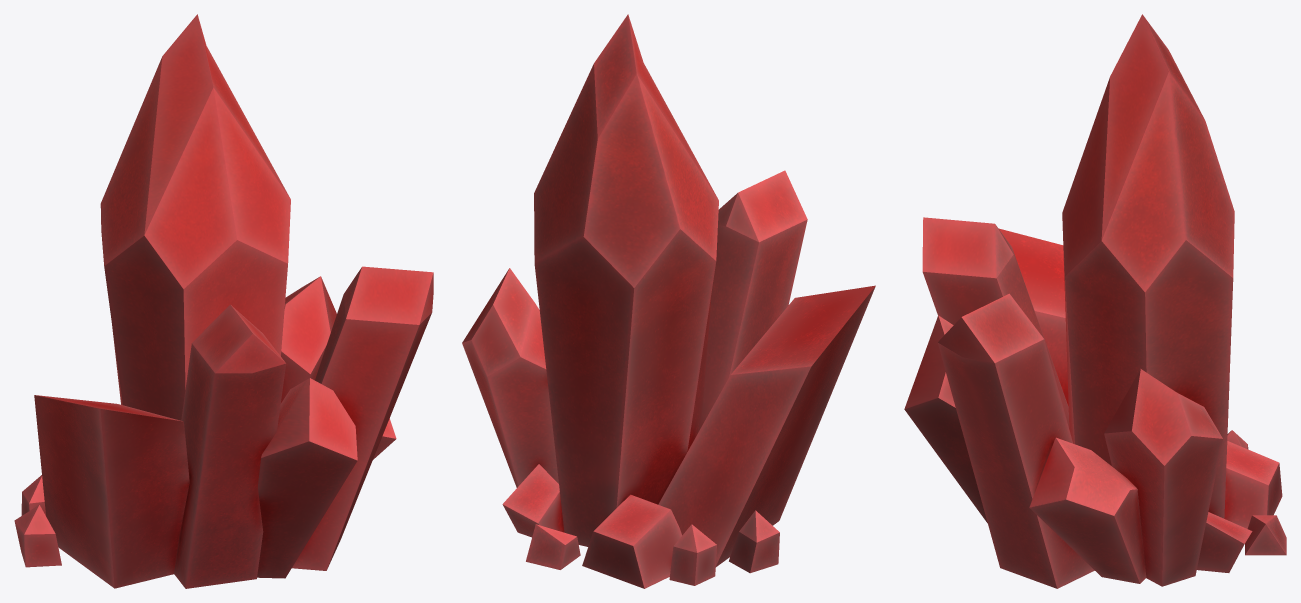
The model's file is Cystal Spike2.glb.
3 renders of one model, left to right at view 1: azimuth 30°, elevation 25°; view 2: azimuth 150°, elevation 25°; view 3: azimuth 270°, elevation 25°, orthographic. The views are drawn at different scales.
Visible parts, largest first — view 1: Crystal Spike.001; view 2: Crystal Spike.001; view 3: Crystal Spike.001.
Boxes of the visible parts, bbox=[...] form: Crystal Spike.001: bbox=[14, 14, 433, 588]; Crystal Spike.001: bbox=[462, 14, 875, 588]; Crystal Spike.001: bbox=[904, 14, 1286, 588].
Bounding box in the file's own units: 1.8 × 2.64 × 1.74.
Materials: 1 (1 with a texture image).
